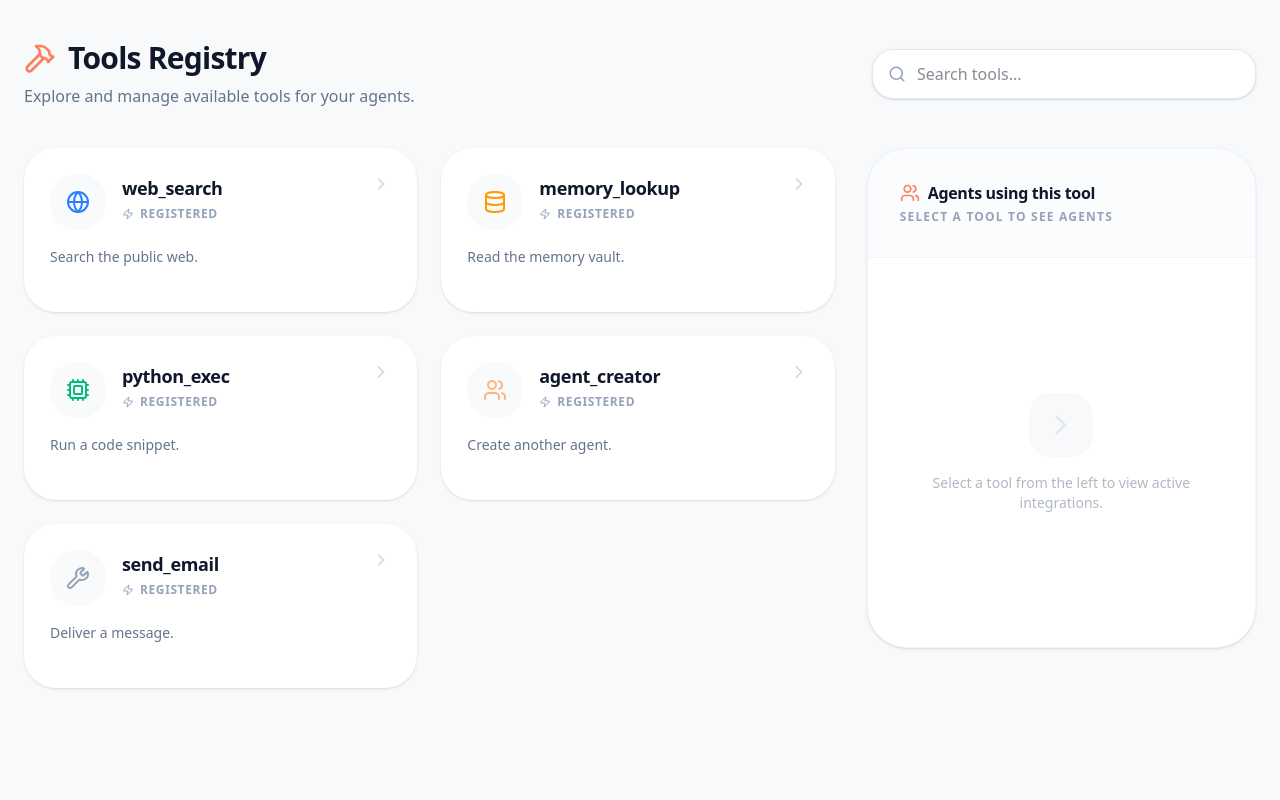
Test case: the tools page › search › filters by name
Expected: the heading "web_search" is shown, [122, 176, 223, 200]
Step 1. Type "memory" into the field with placeholder "Search tools..." → (1064, 74), box [872, 49, 1256, 99]
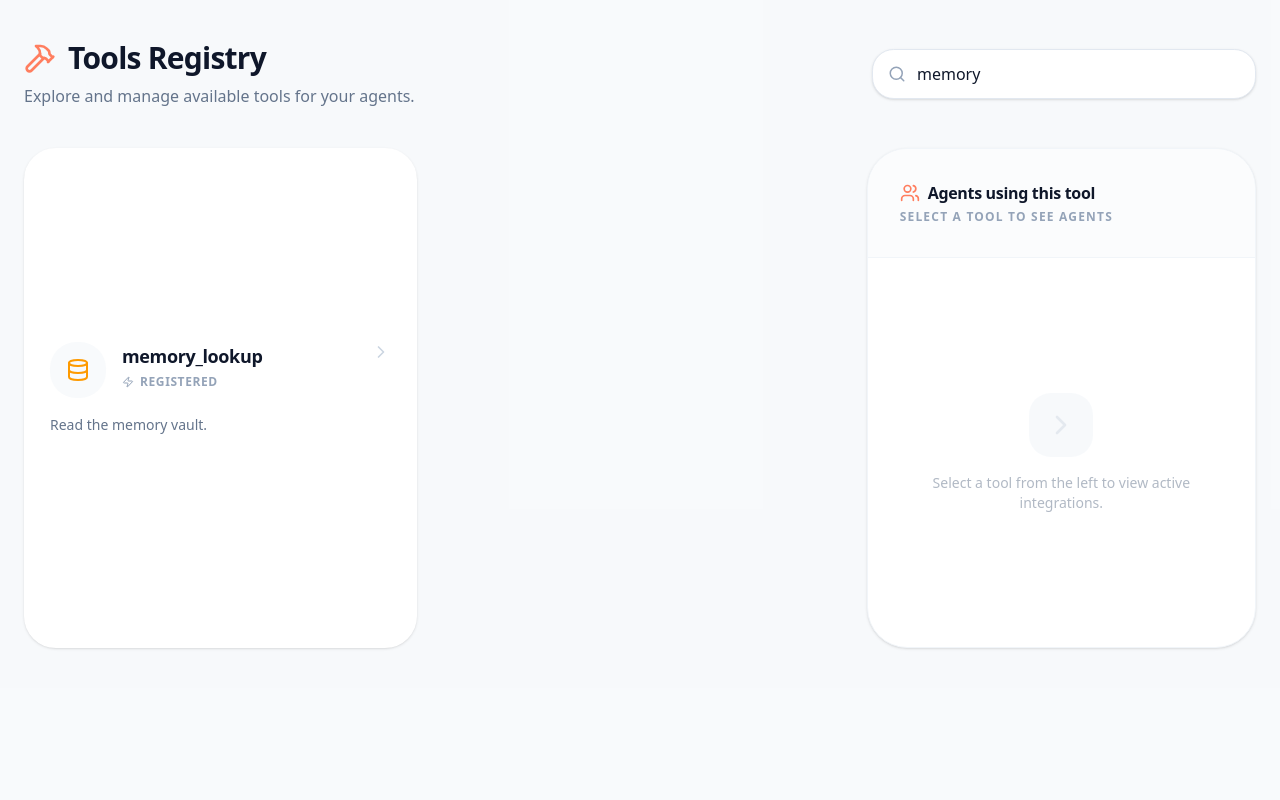
Expected: the heading "memory_lookup" is shown, [122, 344, 262, 368]
Expected: the button "web_search" is gone
